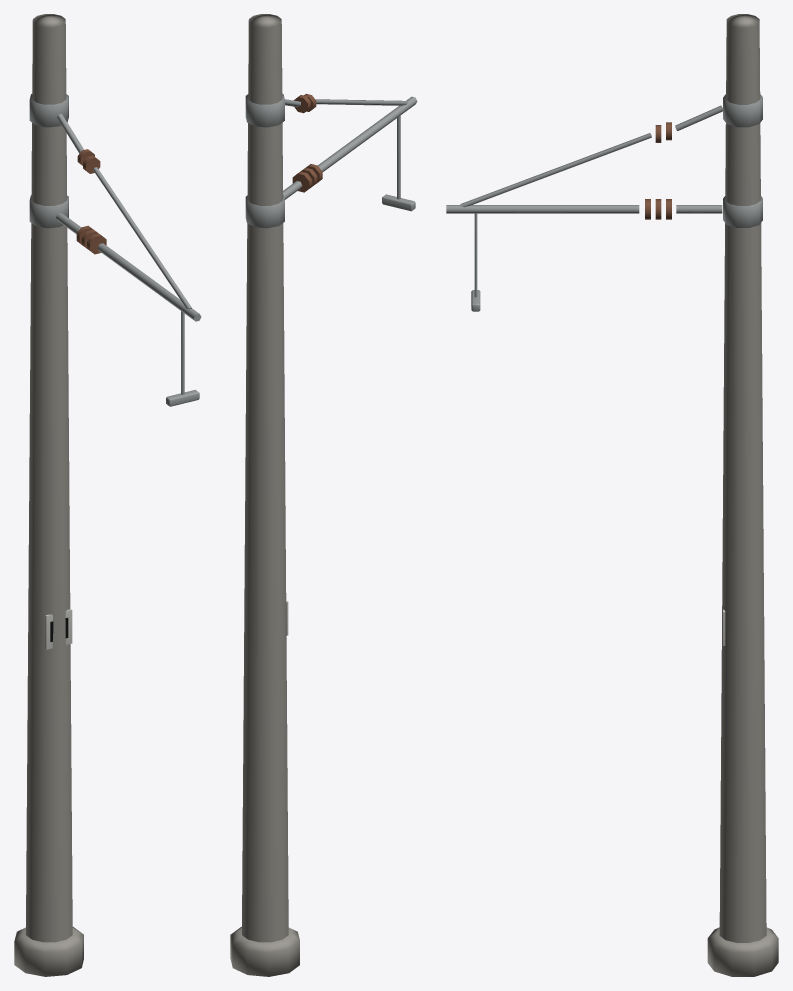
The model's file is TramPoleKM.fbx.
The picture shows the model from 3 angles, left to right: view 1: azimuth 30°, elevation 25°; view 2: azimuth 150°, elevation 25°; view 3: azimuth 270°, elevation 25°; orthographic projection.
Visible parts, largest first — view 1: TramPoleKM; view 2: TramPoleKM; view 3: TramPoleKM.
Boxes of the visible parts, box(x1,y1,x2,y2) form: TramPoleKM: box(14, 14, 201, 976); TramPoleKM: box(230, 14, 417, 976); TramPoleKM: box(446, 14, 778, 976).
Bounding box in the file's own units: 0.4565 × 7.02 × 2.24.
